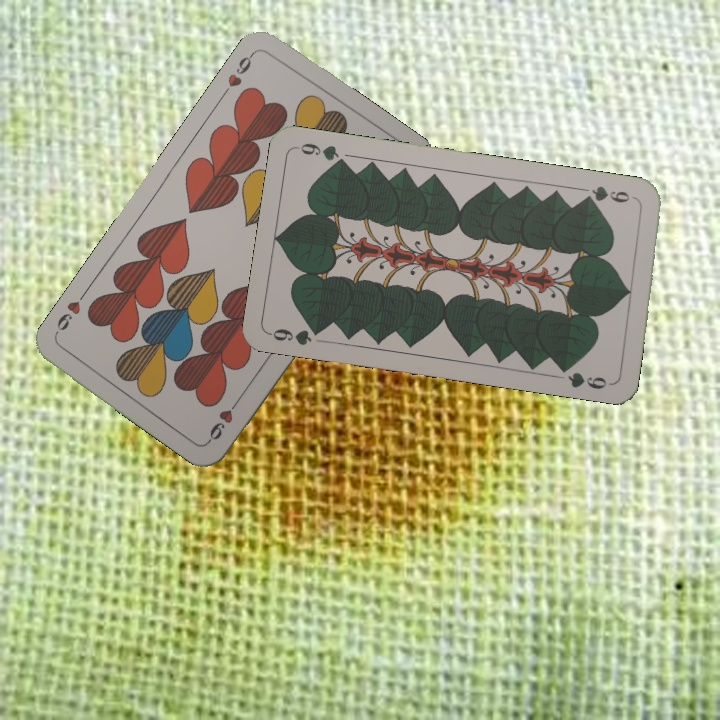G9: (266, 323, 327, 348), (579, 182, 640, 206)
H9: (204, 393, 244, 445), (217, 48, 257, 100)
